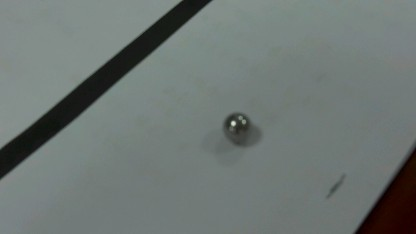ironball: (220, 107, 255, 140)
